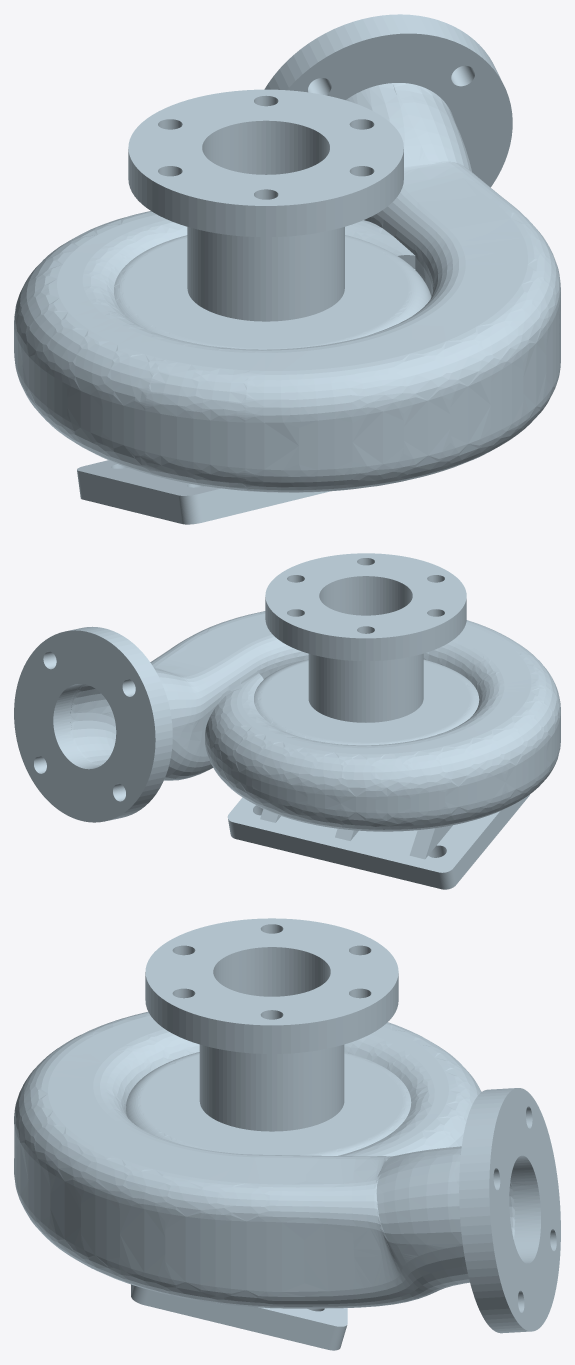
File: t4_volute_casing_kimi.glb
3 views of the same model, one above another, from view 1: azimuth 30°, elevation 25°; view 2: azimuth 150°, elevation 25°; view 3: azimuth 270°, elevation 25° (orthographic). The views are drawn at different scales.
Visible parts, largest first — view 1: VO-96_MONOLITHIC_CASING; view 2: VO-96_MONOLITHIC_CASING; view 3: VO-96_MONOLITHIC_CASING.
Boxes of the visible parts, <box> form: VO-96_MONOLITHIC_CASING: <box>14,14,560,524</box>; VO-96_MONOLITHIC_CASING: <box>14,553,560,889</box>; VO-96_MONOLITHIC_CASING: <box>14,918,560,1350</box>.
Bounding box in the file's own units: 0.2739 × 0.1524 × 0.242.
